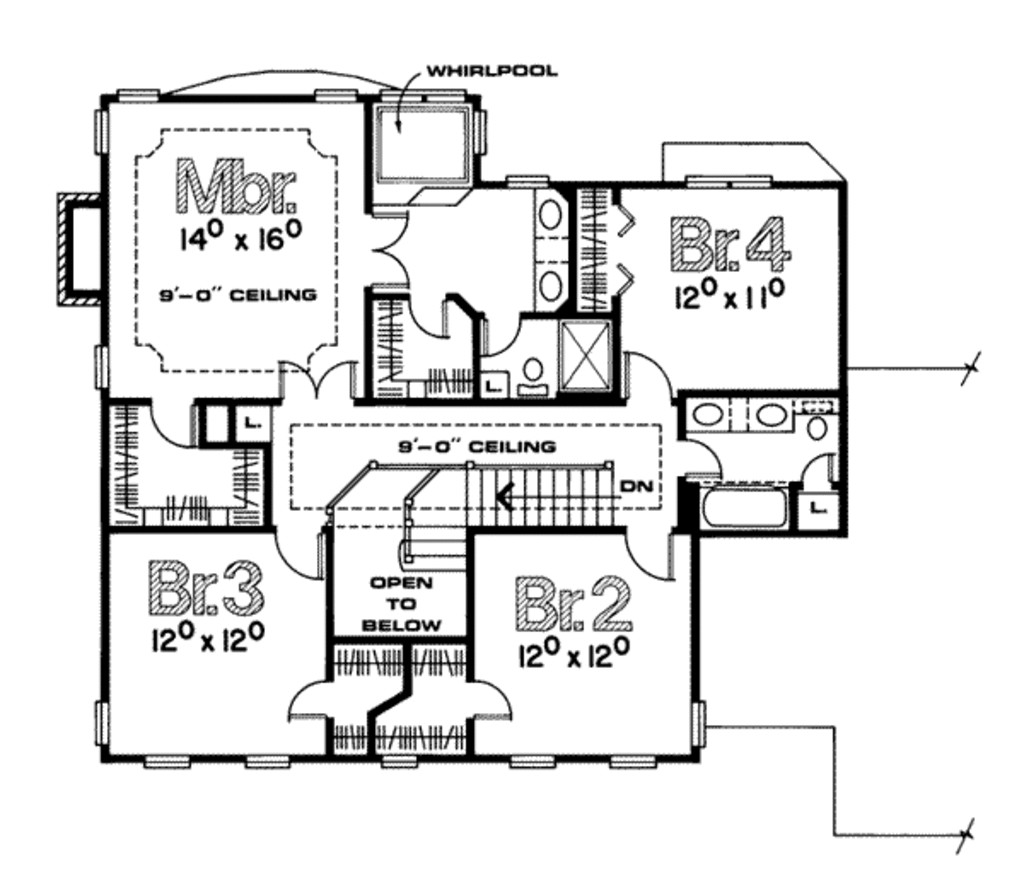door: (361, 208, 416, 292), (271, 357, 361, 402), (265, 521, 334, 579), (616, 350, 673, 412), (136, 398, 206, 448), (623, 524, 678, 587), (666, 430, 728, 478), (477, 312, 529, 361), (405, 295, 459, 340), (281, 679, 332, 725), (467, 680, 513, 722), (798, 448, 839, 486)
large_sink: (794, 393, 842, 450), (511, 353, 556, 405)
small_sink: (529, 186, 574, 312)
stairs: (392, 453, 621, 577)
tub: (694, 481, 797, 535)
window: (681, 171, 776, 197), (607, 753, 668, 779), (106, 83, 163, 109), (134, 750, 191, 776), (91, 340, 116, 396), (691, 693, 712, 757), (306, 85, 364, 106), (240, 753, 294, 775), (500, 754, 558, 774), (91, 699, 115, 745), (372, 753, 427, 771), (503, 172, 552, 192)
